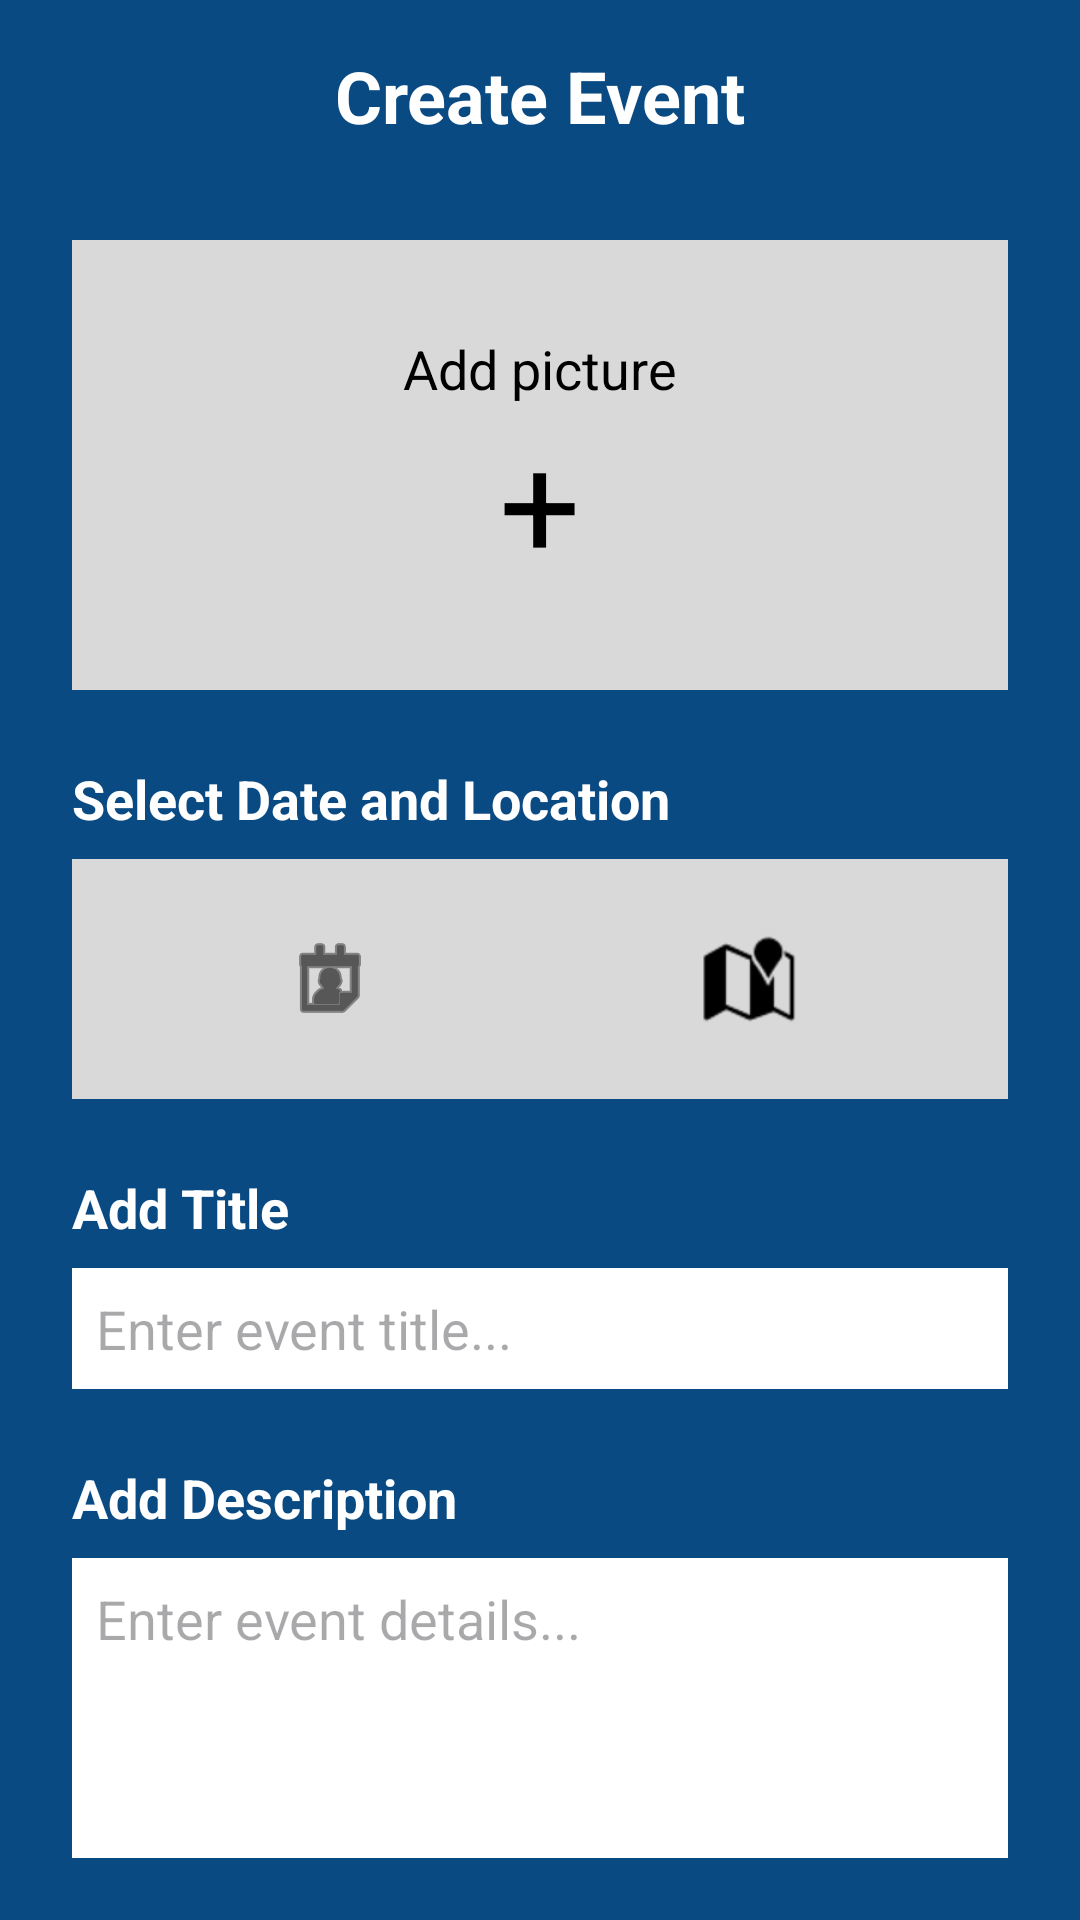

Icon click points for this 1080x1920 phone screenshot, format (x,y):
calendar: (330,978)
map: (749,979)
